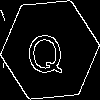Q: (25, 25, 64, 77)
